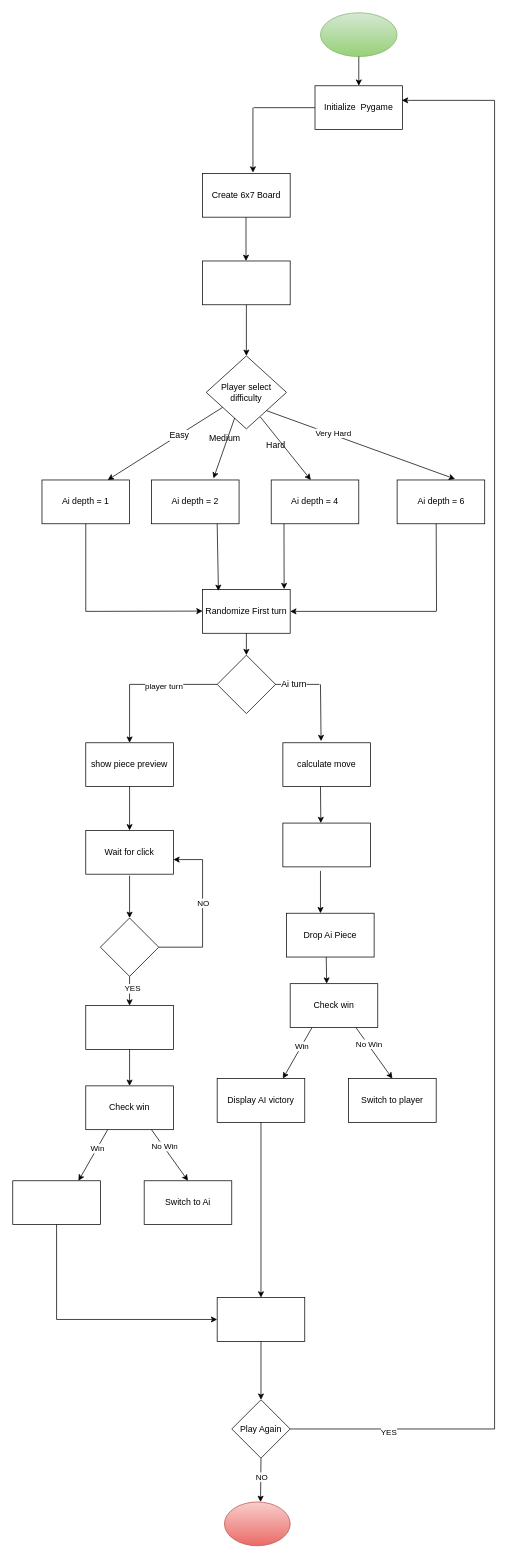
Image size: 513x1559. Some labels were removed from this diagram. The centre of each missing label's shape, as x and y in pixels:
Display victory: (x=56, y=1202)
Drop Piece: (x=129, y=1027)
END: (x=257, y=1523)
Game Loop: (x=246, y=684)
Run minimax/alpha-beta: (x=326, y=844)
Show difficulty menu: (x=246, y=282)
Show Play Again: (x=260, y=1319)
START: (x=358, y=34)
Valid column: (x=129, y=946)
